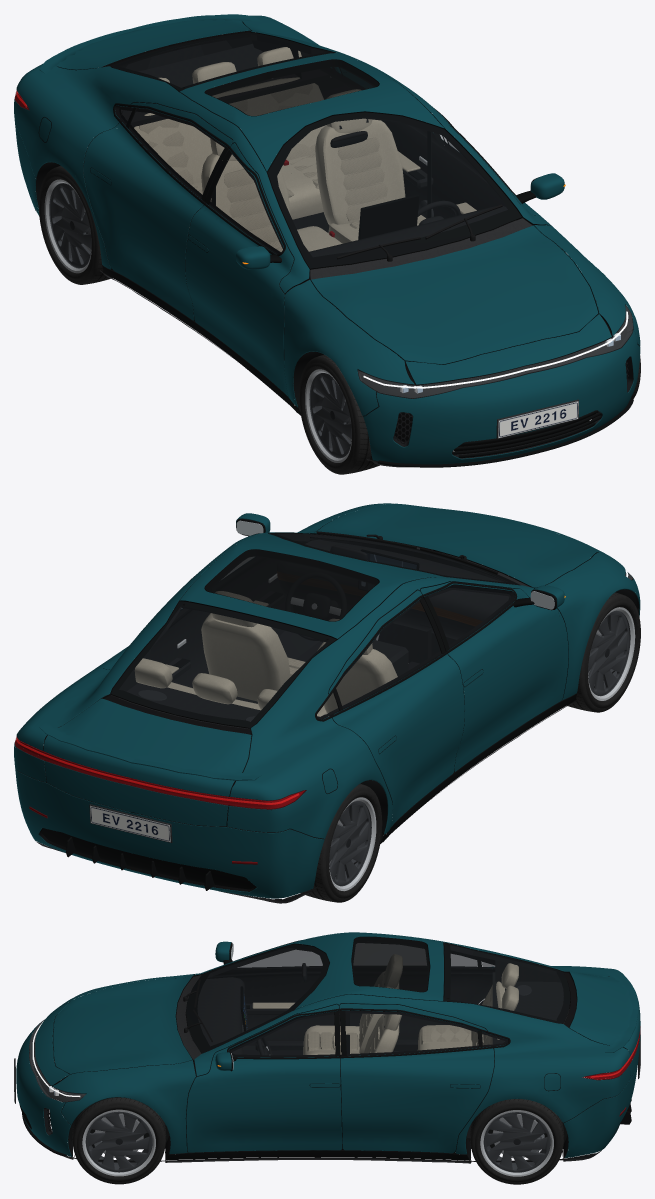
The model's file is electric-fastback.glb.
The picture shows the model from 3 angles, top to bottom: view 1: azimuth 30°, elevation 25°; view 2: azimuth 150°, elevation 25°; view 3: azimuth 270°, elevation 25°; orthographic projection. The views are drawn at different scales.
Parts seen in each view (by area): view 1: Body, Wheel_FR, Wheel_RR; view 2: Body, Wheel_RR, Wheel_FR, Steering_Wheel; view 3: Body, Wheel_FL, Wheel_RL.
Boxes of the visible parts, x1,y1,x2,y2 form: Body: (14, 14, 640, 467); Wheel_FR: (299, 354, 379, 474); Wheel_RR: (38, 166, 111, 284); Body: (14, 503, 640, 903); Wheel_RR: (301, 783, 382, 902); Wheel_FR: (567, 592, 640, 712); Steering_Wheel: (286, 572, 346, 640); Body: (14, 932, 640, 1163); Wheel_FL: (72, 1097, 166, 1184); Wheel_RL: (470, 1099, 564, 1184).
Bounding box in the file's own units: 2.1 × 1.4 × 4.6.
Materials: 58 (12 with a texture image).
